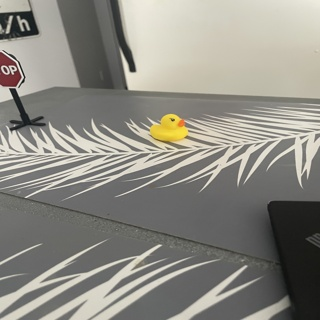duck_regular: (148, 114, 187, 142)
